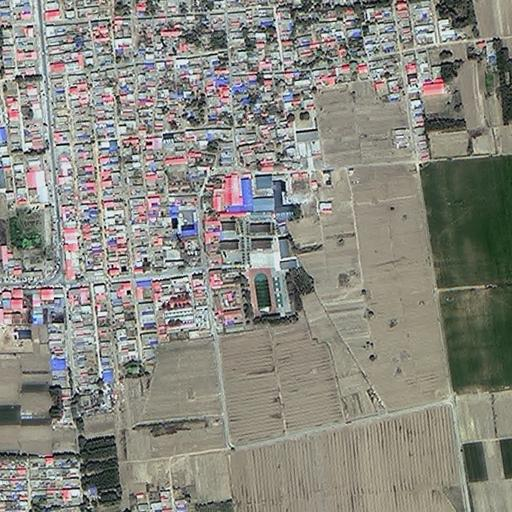school: (241, 218, 286, 322)
